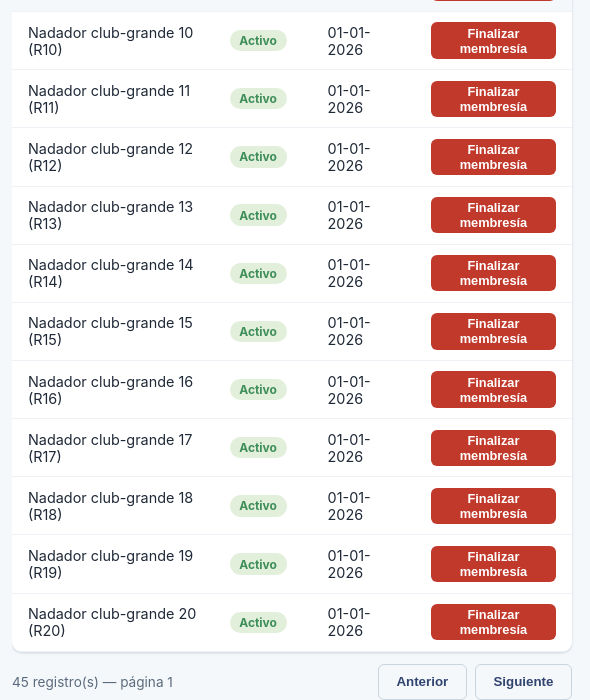
it: ClubSwimmersSection: paginación de la tabla › navega a la SEGUNDA página y muestra sus filas
(page scrolled)
Click the button "Siguiente". click: (523, 682)
box: [475,664,572,699]
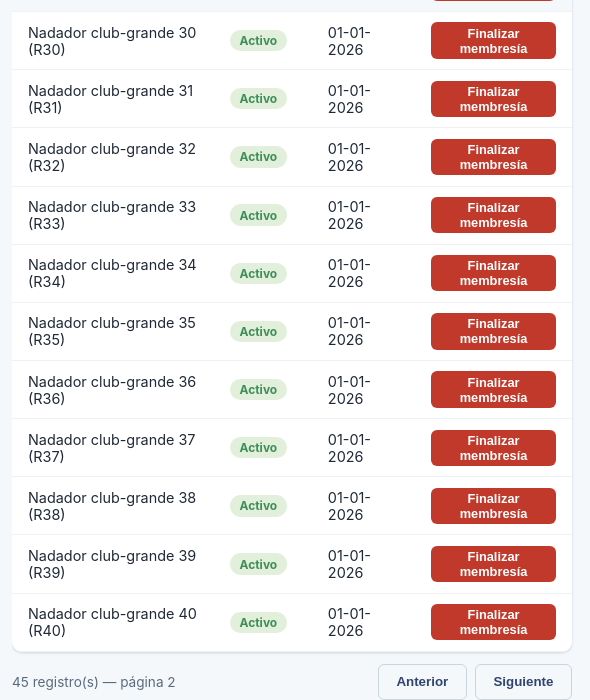
Expected: the button "Anterior" is enabled, [378,664,467,699]
Expected: the text "Nadador club-grande 40 (R40)" is shown, [12,593,214,651]
Click the button "Siguiente". click: (523, 682)
box: [475,664,572,699]
(page scrolled)
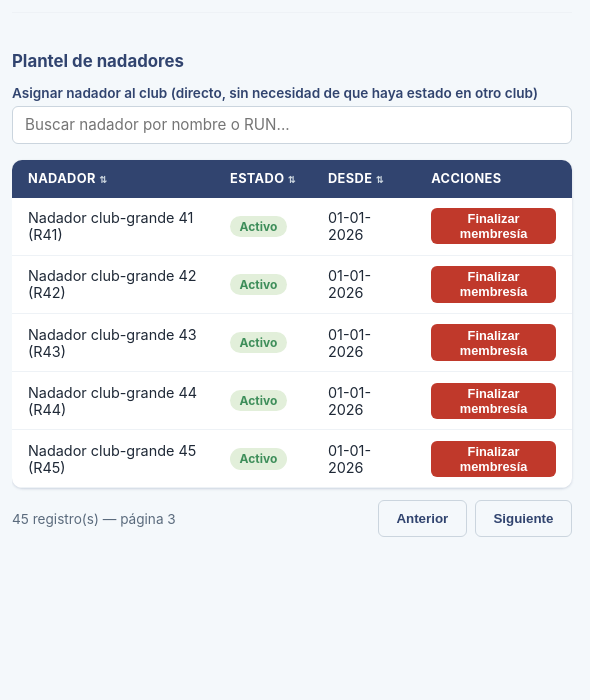
Expected: the text "Nadador club-grande 45 (R45)" is shown, [12,430,214,488]
Expected: the button "Siguiente" is disabled, [475,500,572,537]
